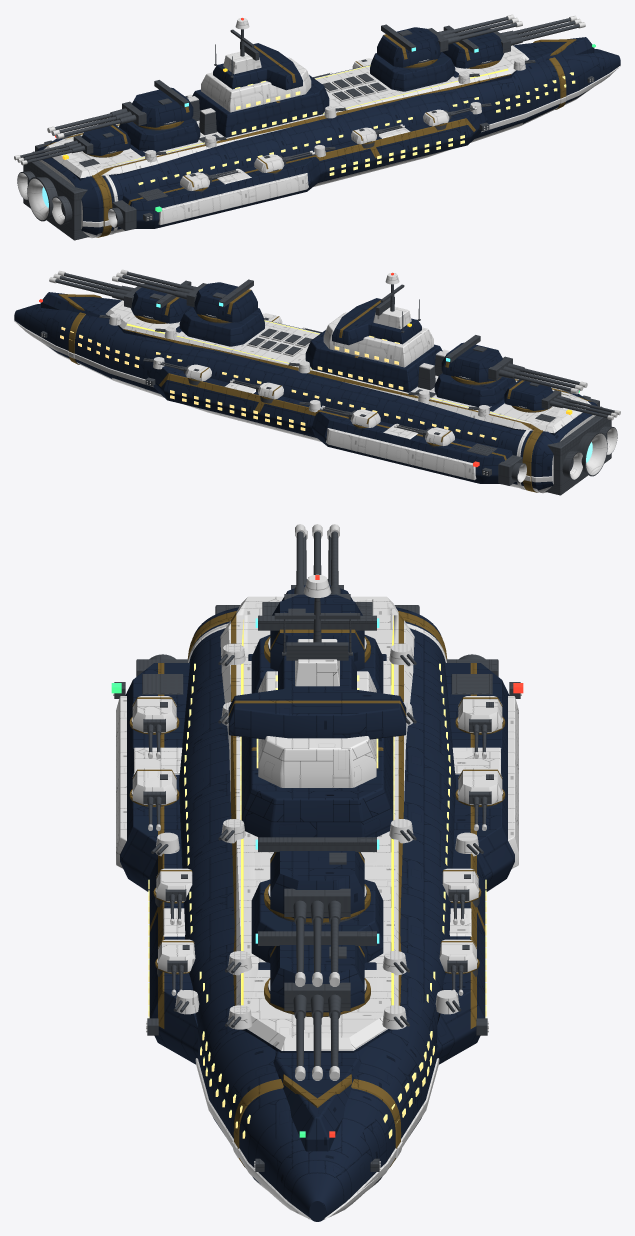
Rendered from warden_production_v1.glb.
The picture shows the model from 3 angles, top to bottom: view 1: azimuth 30°, elevation 25°; view 2: azimuth 150°, elevation 25°; view 3: azimuth 270°, elevation 25°; orthographic projection. The views are drawn at different scales.
Visible parts, largest first — view 1: LOD0_MOTION_HULL_CORE_Hull, LOD0_MOTION_HULL_CORE_Armor, LOD0_MOTION_HULL_CORE_Mechanical, LOD0_MOTION_HULL_CORE_Livery, LOD0_MOTION_HULL_CORE_MechanicalDark, LOD0_MOTION_HULL_CORE_Lights_Warm, LOD0_MOTION_HULL_CORE_Lights_Cyan_gold, LOD0_MOTION_HULL_CORE_HOOK_SENSOR_MAST_Mechanical; view 2: LOD0_MOTION_HULL_CORE_Hull, LOD0_MOTION_HULL_CORE_Armor, LOD0_MOTION_HULL_CORE_Mechanical, LOD0_MOTION_HULL_CORE_Livery, LOD0_MOTION_HULL_CORE_MechanicalDark, LOD0_MOTION_HULL_CORE_HOOK_ARMOR_PORT_Armor, LOD0_MOTION_HULL_CORE_Lights_Warm, LOD0_MOTION_HULL_CORE_HOOK_SECONDARY_TURRET_Armor, LOD0_MOTION_HULL_CORE_Lights_Cyan_gold, LOD0_MOTION_HULL_CORE_HOOK_SENSOR_MAST_Mechanical; view 3: LOD0_MOTION_HULL_CORE_Hull, LOD0_MOTION_HULL_CORE_Armor, LOD0_MOTION_HULL_CORE_Mechanical, LOD0_MOTION_HULL_CORE_Livery, LOD0_MOTION_HULL_CORE_MechanicalDark, LOD0_MOTION_HULL_CORE_Lights_Warm, LOD0_MOTION_HULL_CORE_HOOK_SENSOR_MAST_Mechanical, LOD0_MOTION_HULL_CORE_HOOK_ARMOR_PORT_Armor, LOD0_MOTION_HULL_CORE_HOOK_SECONDARY_TURRET_Armor, LOD0_MOTION_HULL_CORE_Lights_Cyan_gold.
Part boxes in pixels (x1,y1,x2,y2): LOD0_MOTION_HULL_CORE_Hull: (36,27,620,235); LOD0_MOTION_HULL_CORE_Armor: (44,45,593,238); LOD0_MOTION_HULL_CORE_Mechanical: (17,17,594,240); LOD0_MOTION_HULL_CORE_Livery: (44,34,576,237); LOD0_MOTION_HULL_CORE_MechanicalDark: (14,14,620,229); LOD0_MOTION_HULL_CORE_Lights_Warm: (138,72,575,185); LOD0_MOTION_HULL_CORE_Lights_Cyan_gold: (71,65,508,165); LOD0_MOTION_HULL_CORE_HOOK_SENSOR_MAST_Mechanical: (230,29,259,60); LOD0_MOTION_HULL_CORE_Hull: (14,282,598,490); LOD0_MOTION_HULL_CORE_Armor: (41,300,590,493); LOD0_MOTION_HULL_CORE_Mechanical: (40,272,617,495); LOD0_MOTION_HULL_CORE_Livery: (58,289,590,492); LOD0_MOTION_HULL_CORE_MechanicalDark: (14,269,620,484); LOD0_MOTION_HULL_CORE_HOOK_ARMOR_PORT_Armor: (326,428,476,480); LOD0_MOTION_HULL_CORE_Lights_Warm: (60,327,496,440); LOD0_MOTION_HULL_CORE_HOOK_SECONDARY_TURRET_Armor: (425,427,454,445); LOD0_MOTION_HULL_CORE_Lights_Cyan_gold: (126,320,523,420); LOD0_MOTION_HULL_CORE_HOOK_SENSOR_MAST_Mechanical: (375,284,404,315); LOD0_MOTION_HULL_CORE_Hull: (120,585,514,1221); LOD0_MOTION_HULL_CORE_Armor: (116,596,502,1219); LOD0_MOTION_HULL_CORE_Mechanical: (114,531,520,1171); LOD0_MOTION_HULL_CORE_Livery: (129,611,505,1167); LOD0_MOTION_HULL_CORE_MechanicalDark: (113,524,521,1219); LOD0_MOTION_HULL_CORE_Lights_Warm: (148,663,486,1138); LOD0_MOTION_HULL_CORE_HOOK_SENSOR_MAST_Mechanical: (274,598,360,660); LOD0_MOTION_HULL_CORE_HOOK_ARMOR_PORT_Armor: (508,696,518,868); LOD0_MOTION_HULL_CORE_HOOK_SECONDARY_TURRET_Armor: (458,696,502,732); LOD0_MOTION_HULL_CORE_Lights_Cyan_gold: (241,616,393,1005).
Size of what is drawn, in the model's own units: 42.13 by 11.05 by 12.5.
Materials: 12 (5 with a texture image).
